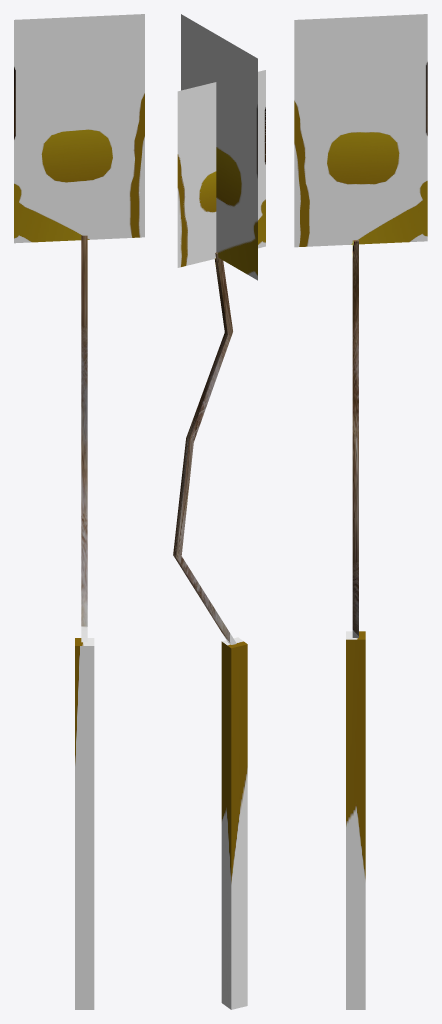
File: cattoy.fbx
The picture shows the model from 3 angles, left to right: view 1: azimuth 90°, elevation 25°; view 2: azimuth 210°, elevation 25°; view 3: azimuth 270°, elevation 25°; orthographic projection. The views are drawn at different scales.
Visible parts, largest first — view 1: cattoy; view 2: cattoy; view 3: cattoy.
Boxes of the visible parts, bbox=[...] form: cattoy: bbox=[14, 14, 144, 1009]; cattoy: bbox=[173, 14, 265, 1009]; cattoy: bbox=[294, 14, 427, 1009].
Size of the model in its own units: 0.07 by 0.7145 by 0.0864.
